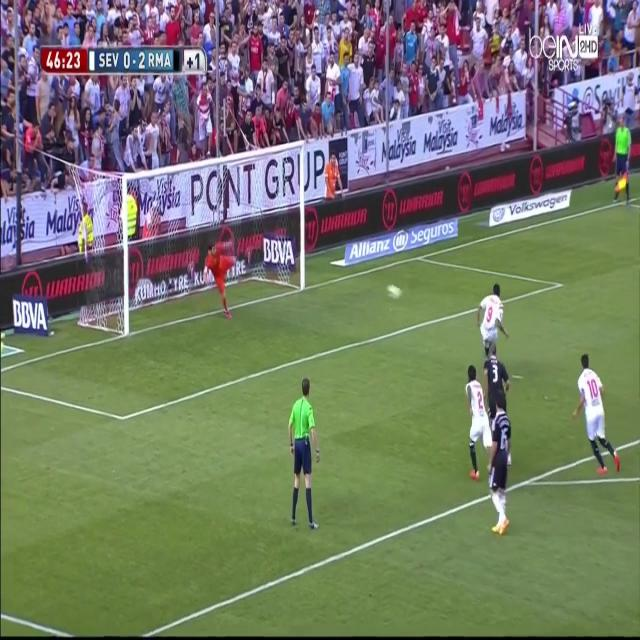Ball: (385, 280, 403, 306)
Goalkeeper: (203, 228, 240, 320)
Player: (571, 349, 622, 479), (488, 392, 514, 536), (464, 364, 489, 481), (477, 282, 510, 353), (482, 346, 513, 418)
Referee: (287, 376, 321, 536), (612, 110, 632, 202)
